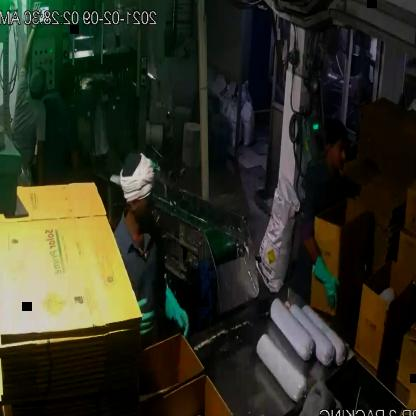glove: (310, 246, 341, 316), (158, 274, 188, 343)
no_glove: (18, 5, 39, 76), (29, 130, 49, 196)
